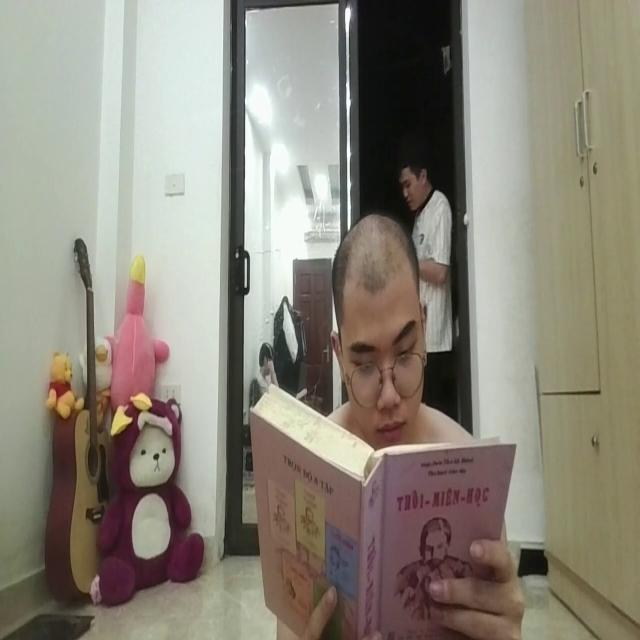book: (240, 374, 515, 640)
extra_person: (401, 144, 456, 350)
student: (329, 210, 428, 441)
